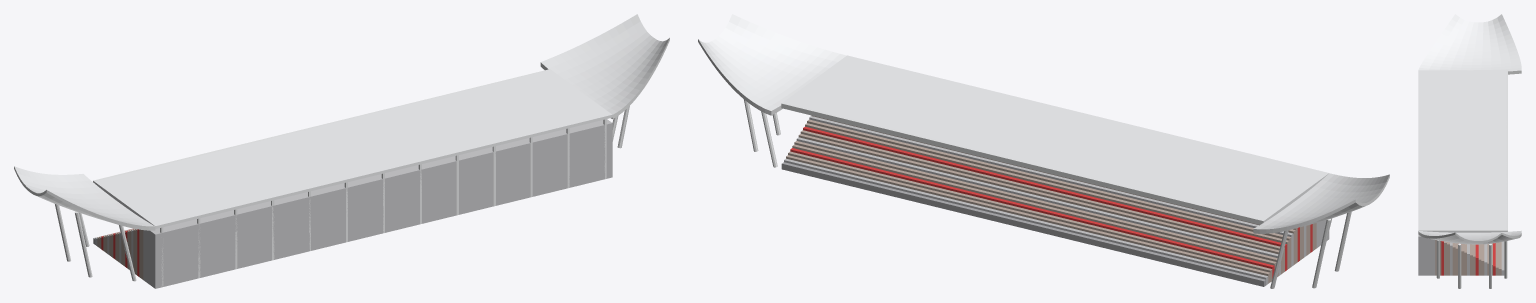
The model's file is shanghai_grandstand.glb.
The picture shows the model from 3 angles, left to right: view 1: azimuth 30°, elevation 25°; view 2: azimuth 150°, elevation 25°; view 3: azimuth 270°, elevation 25°; orthographic projection. The views are drawn at different scales.
Parts seen in each view (by area): view 1: stand, wing_R, wing_L; view 2: stand, wing_R, wing_L; view 3: stand, wing_L, wing_R.
Part boxes in pixels (x1,y1,x2,y2): stand: [93, 69, 612, 288]; wing_R: [540, 14, 669, 148]; wing_L: [14, 166, 155, 281]; stand: [781, 55, 1329, 286]; wing_R: [698, 14, 846, 167]; wing_L: [1253, 173, 1389, 288]; stand: [1418, 70, 1507, 275]; wing_L: [1418, 14, 1521, 74]; wing_R: [1418, 230, 1521, 288].
Size of the model in its own units: 360 by 55.5 by 72.05.
